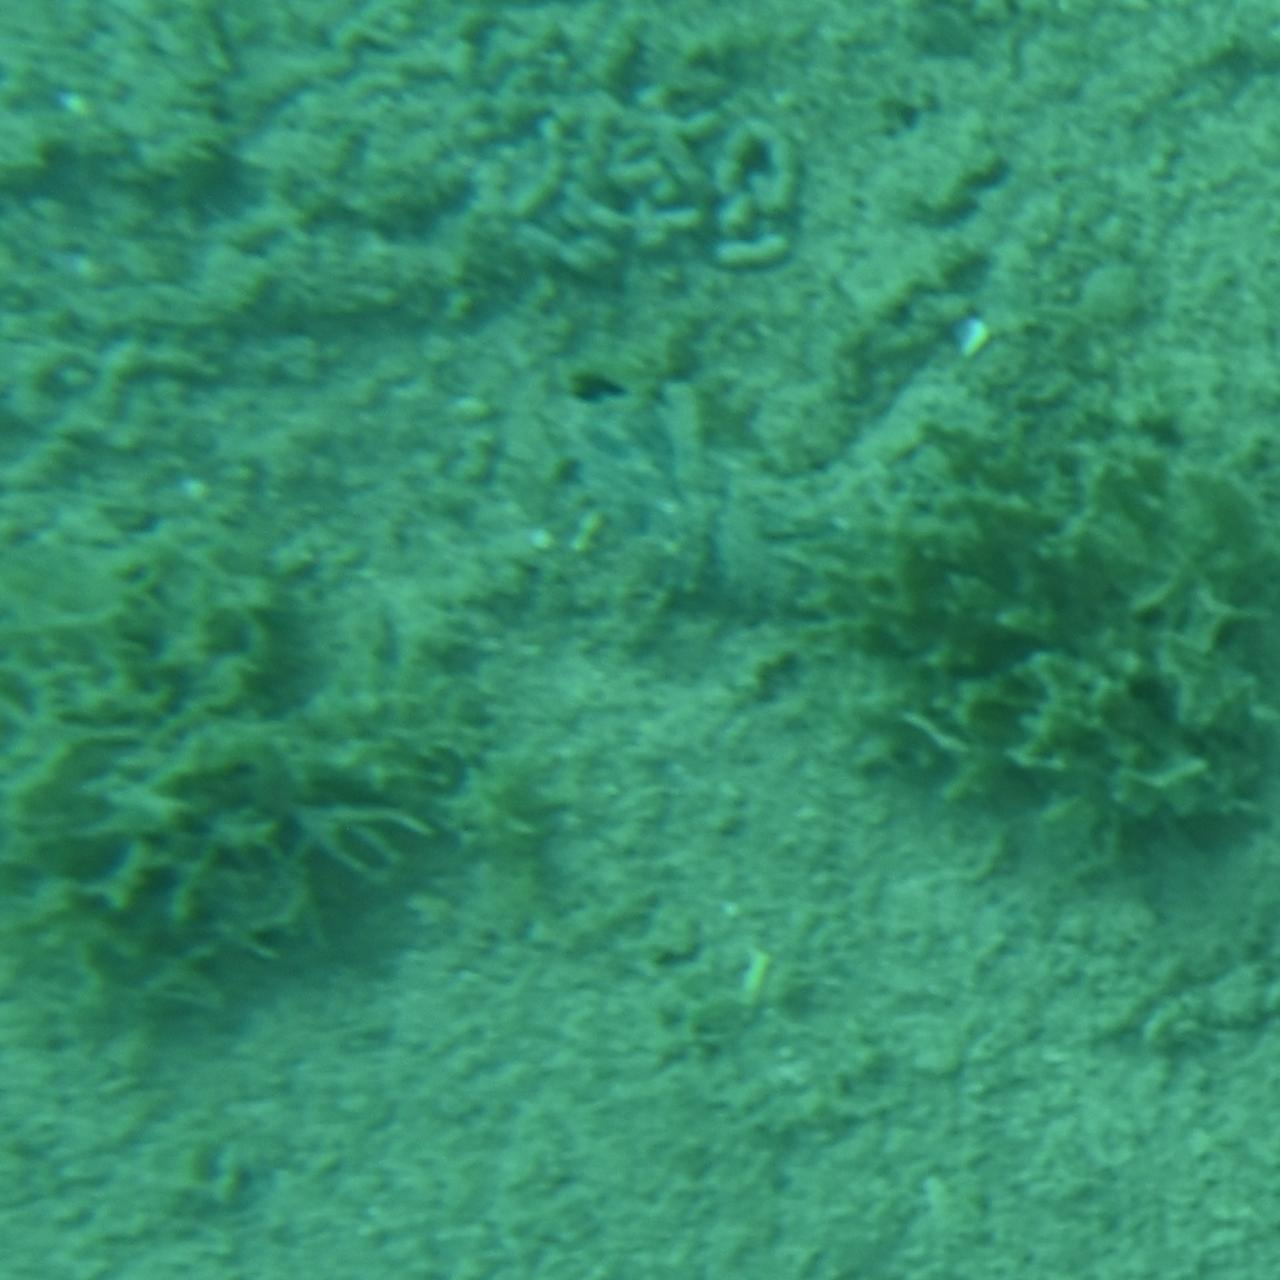Holothuria tubulosa: (530, 340, 1035, 613)
Phaeophyceae -cfr Cystoseira-: (0, 527, 515, 1081), (915, 447, 1280, 890)
